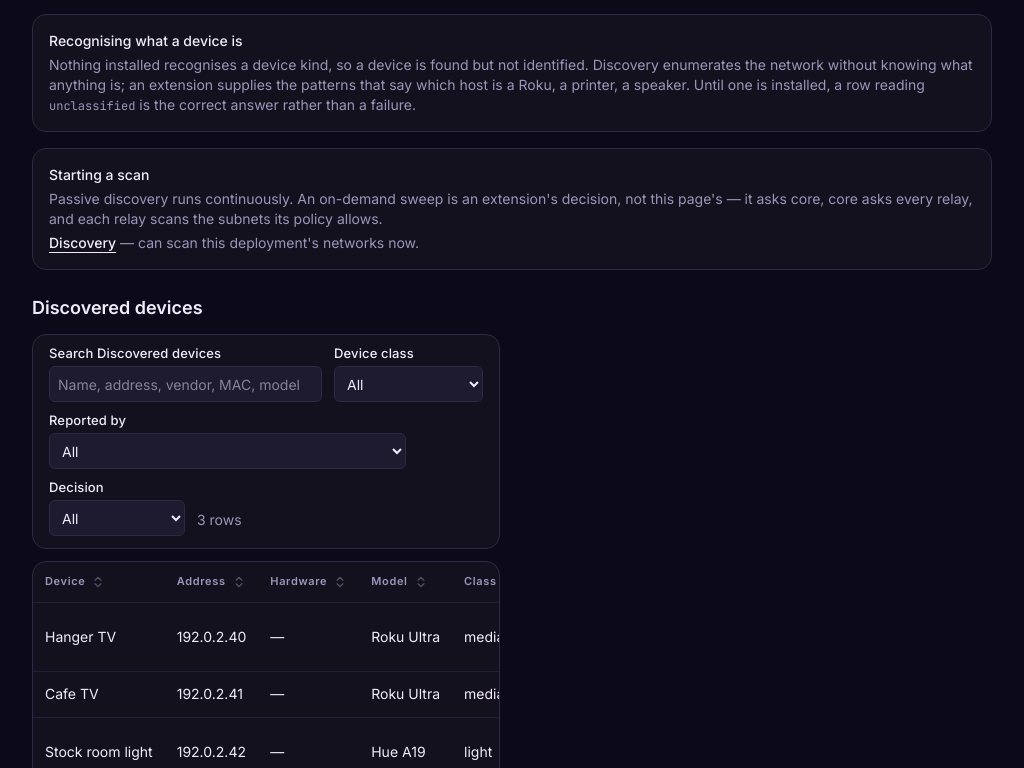
Test: Devices — finding one device in a fleet › filters by a device class the ROWS declare, not by a hardcoded list
The image size is (1024, 768).
(page scrolled)
Select "light (1)" in the dropdown labelled "Device class" at coordinates (408, 384), box top-left (334, 366), bottom-right (483, 402)
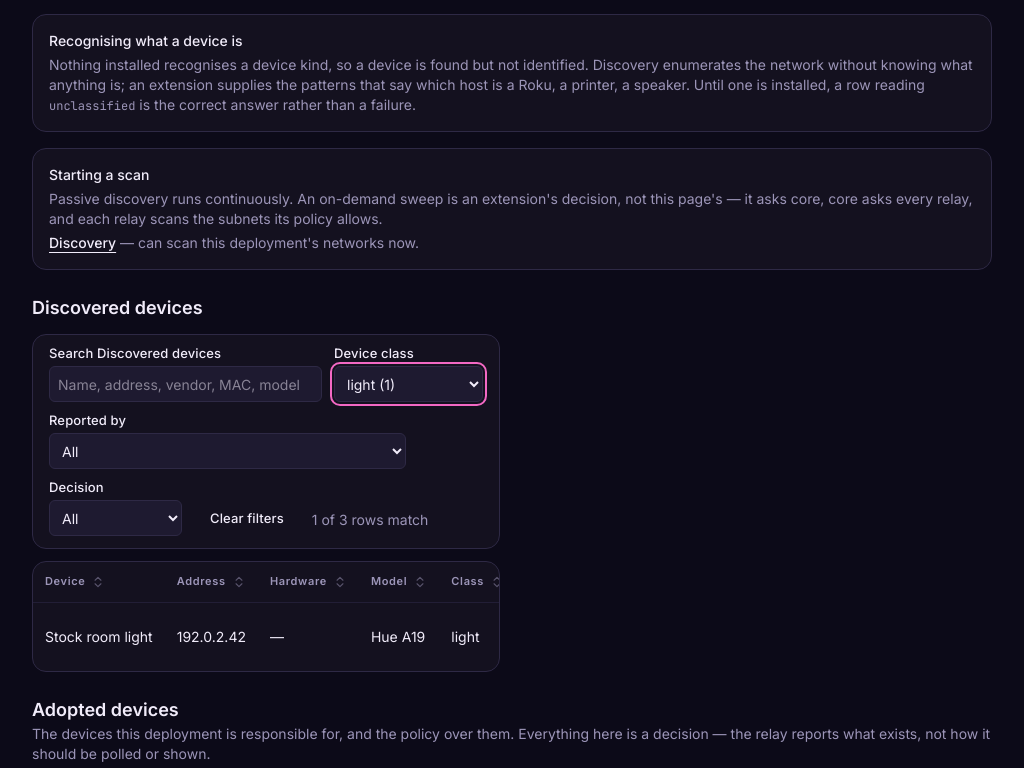
expect the text "Stock room light" is shown: met, box top-left (33, 602), bottom-right (165, 671)
expect the button "Hanger TV" is gone: met
